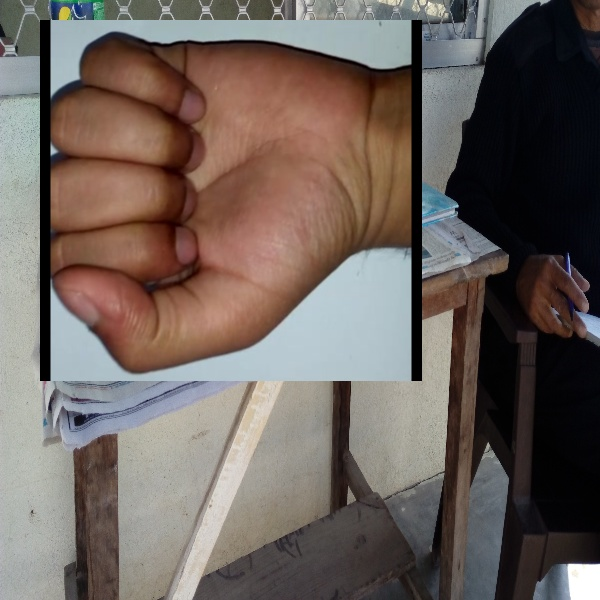A: (40, 20, 422, 381)
